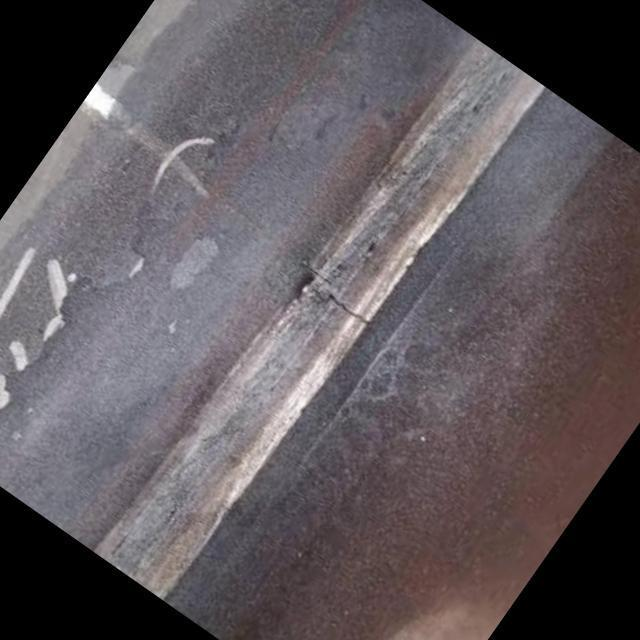defect: (324, 290, 371, 331)
